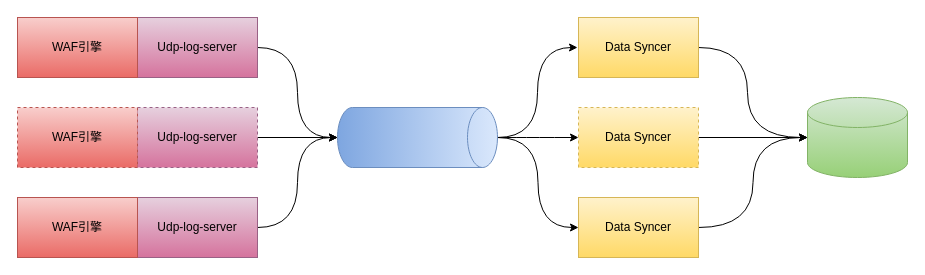
This 925x275 diagram has some shape labels left out. Here are the shapes that lost their labels. From the top down, the box of each, then its label:
(336, 106, 498, 168): Kafka Cluster
(806, 96, 908, 178): DB数据库/存储
